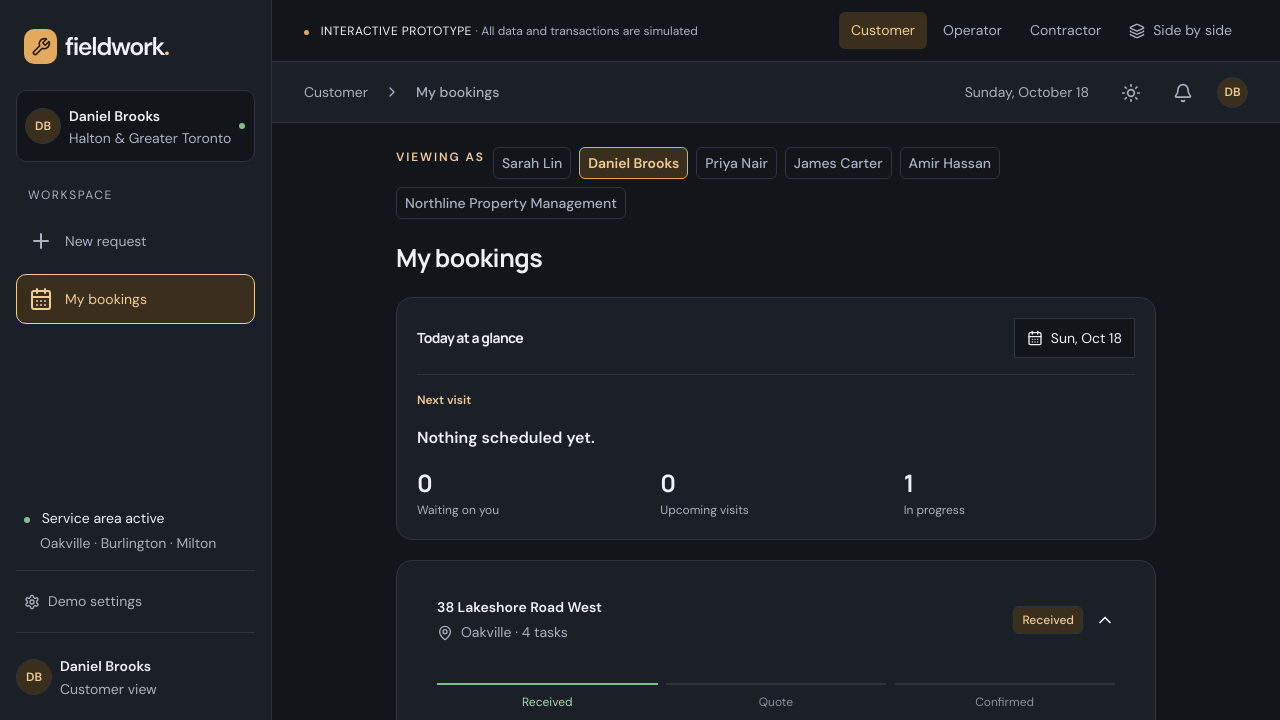
Customer workspace › loads New request on demand
The width and height of the screenshot is (1280, 720).
Click the button "New request".
click(136, 241)  # box [16,216,255,266]
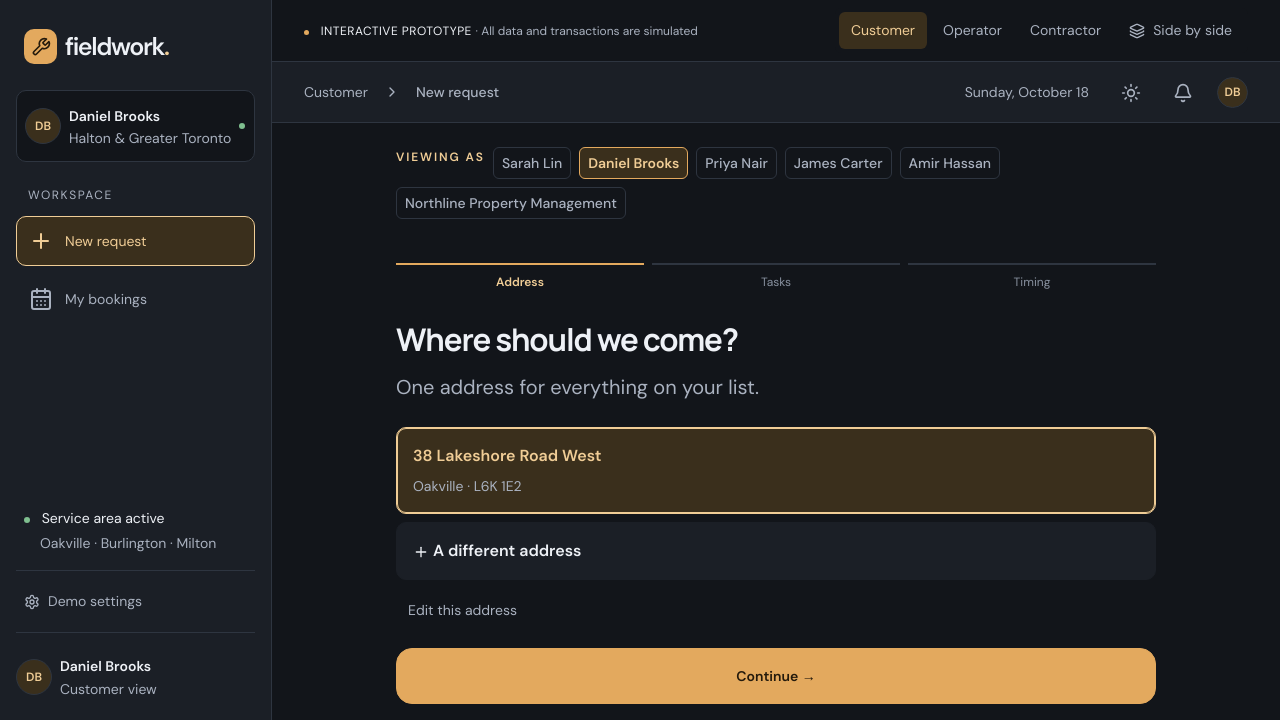
Result: the heading "Where should we come?" is shown at [396,318,738,360]
Result: the button "A different address" is shown at [396,522,1156,580]
